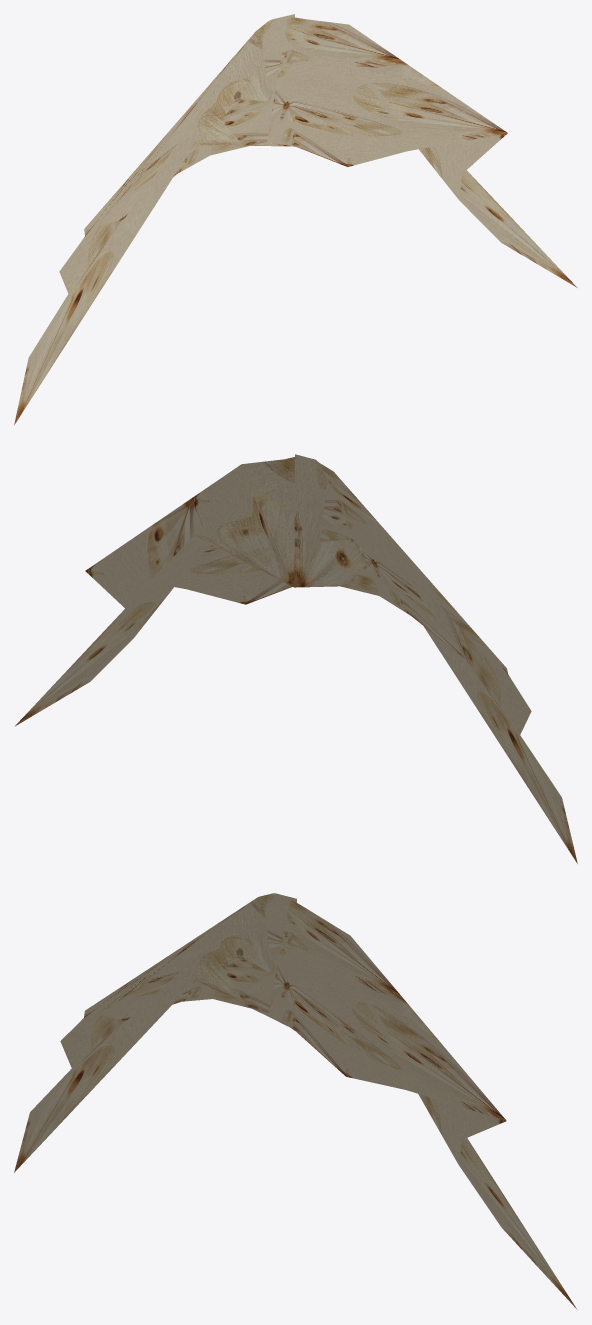
The picture shows the model from 3 angles, top to bottom: view 1: azimuth 30°, elevation 25°; view 2: azimuth 150°, elevation 25°; view 3: azimuth 330°, elevation 25°; orthographic projection.
Visible parts, largest first — view 1: Origami_Model_56; view 2: Origami_Model_56; view 3: Origami_Model_56.
Part boxes in pixels (x1=…): Origami_Model_56: x1=14, y1=14, x2=577, y2=425; Origami_Model_56: x1=15, y1=454, x2=577, y2=863; Origami_Model_56: x1=14, y1=893, x2=576, y2=1308.
Bounding box in the file's own units: 0.8 × 0.464 × 0.007.
1 material, 1 textured.
